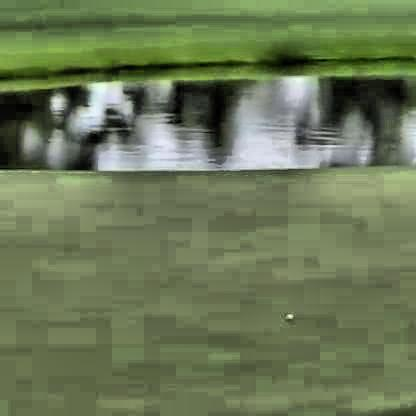golfball: (283, 309, 293, 319)
